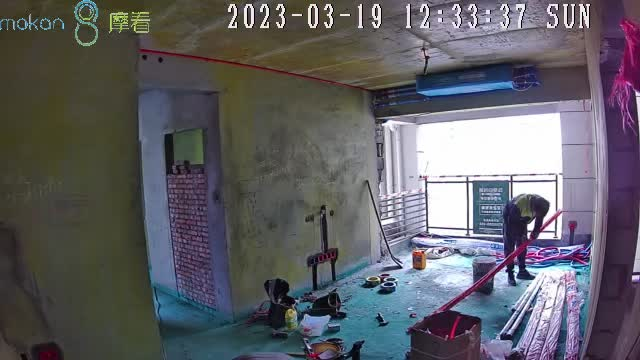people: (502, 193, 551, 285)
window: (418, 112, 563, 233)
